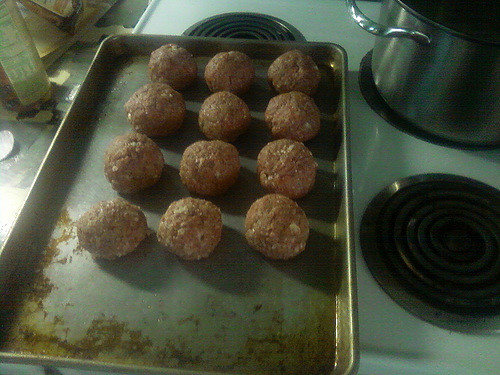meatballs: (156, 199, 230, 260), (243, 193, 310, 260), (76, 199, 149, 260), (180, 137, 247, 201), (255, 137, 320, 202), (104, 132, 168, 197), (123, 83, 190, 138), (263, 93, 327, 144), (198, 88, 254, 143), (268, 50, 326, 95), (147, 39, 198, 90), (204, 50, 258, 95)
